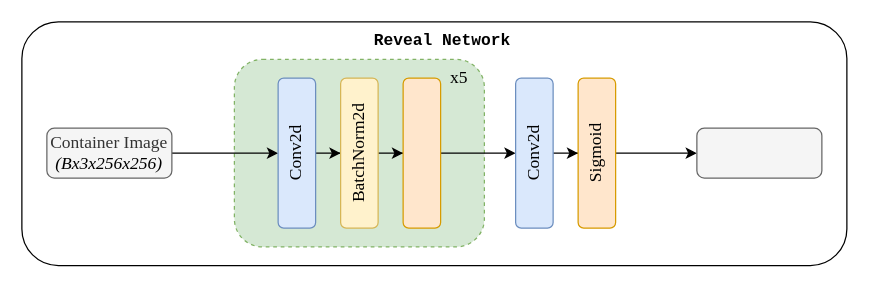
The diagram is 869 pixels wide and 288 high, and some of its shapes have lost their labels. The centre of each missing label's shape, as x and y in pixels:
ReLU: pixel 421 152
Revealed Image (Bx3x256x256): pixel 759 152
